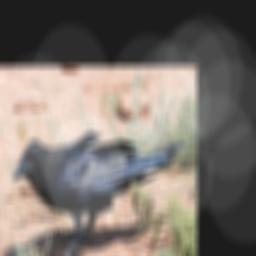Crow: (12, 131, 187, 256)
